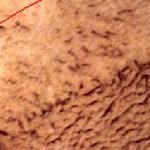alive: (2, 6, 146, 148)
